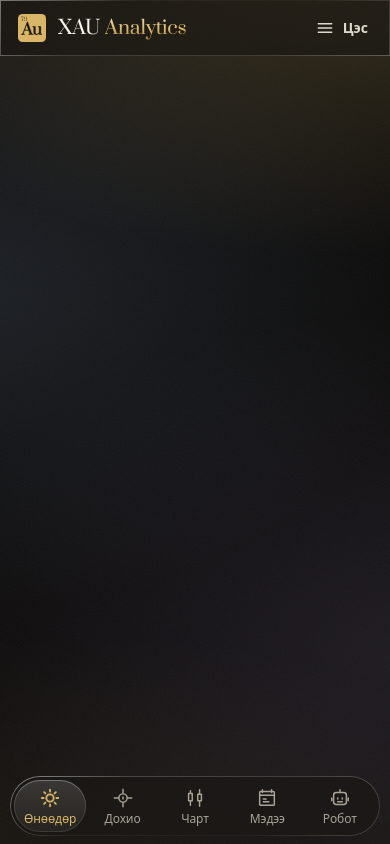
it: on a phone, the Menu button drops down every page, and closes again
The image size is (390, 844).
Later steps or results of the test are not shown.
Click the button "Цэс": [341, 28] box [301,6,382,50]
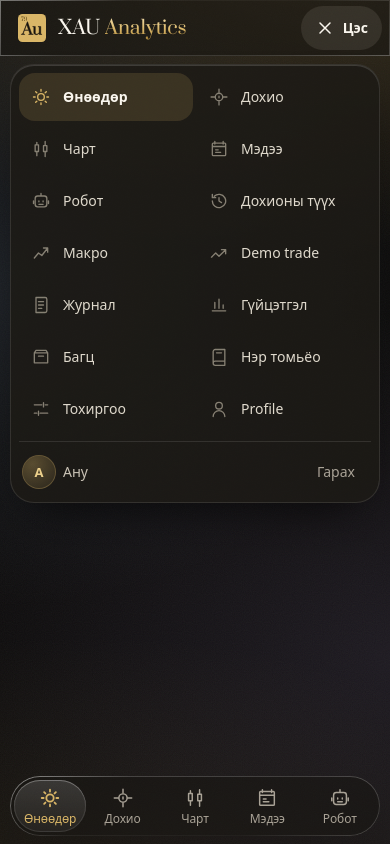
Expected: the button "Цэс" is expanded, [301,6,382,50]
Expected: the button "Гарах" is shown, [305,450,367,494]
